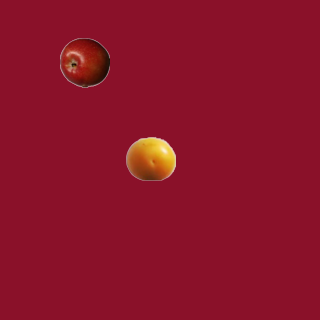Apple Braeburn: (59, 37, 109, 87)
Cherry Wax Yellow: (125, 133, 175, 183)
